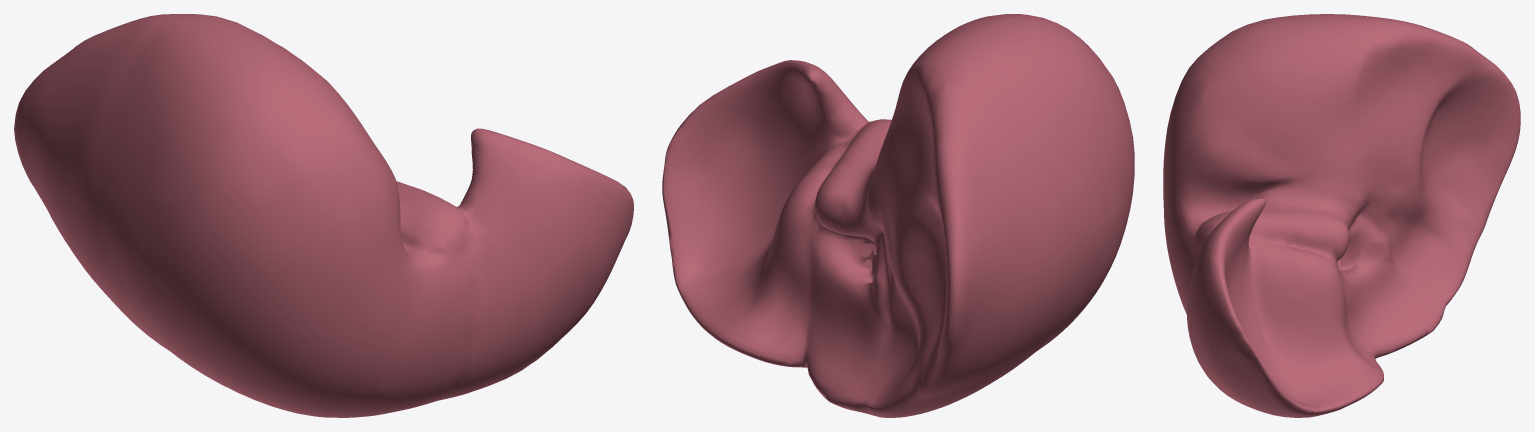
3 views of the same model, side by side, from view 1: azimuth 30°, elevation 25°; view 2: azimuth 150°, elevation 25°; view 3: azimuth 270°, elevation 25° (orthographic). The views are drawn at different scales.
Parts seen in each view (by area): view 1: 肝; view 2: 肝; view 3: 肝.
Boxes of the visible parts, x1,y1,x2,y2 form: 肝: [14, 14, 633, 417]; 肝: [662, 14, 1134, 417]; 肝: [1163, 14, 1520, 417].
Size of the model in its own units: 0.304 by 0.2257 by 0.245.
